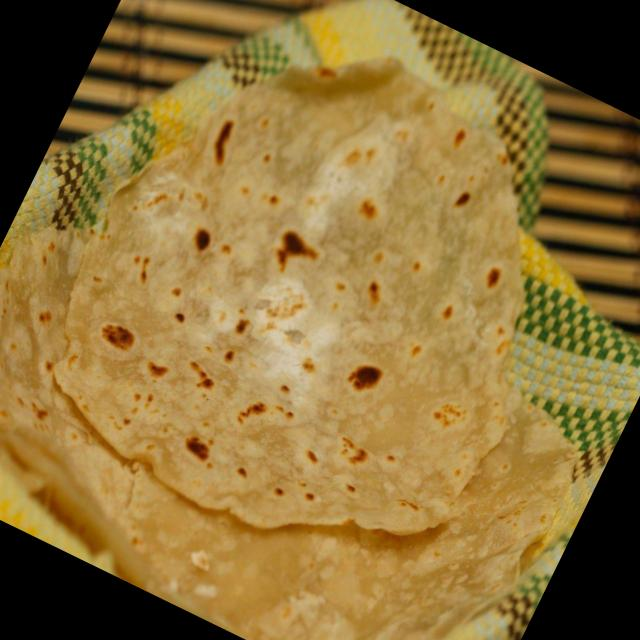roti: (0, 224, 582, 640), (60, 56, 524, 534)
